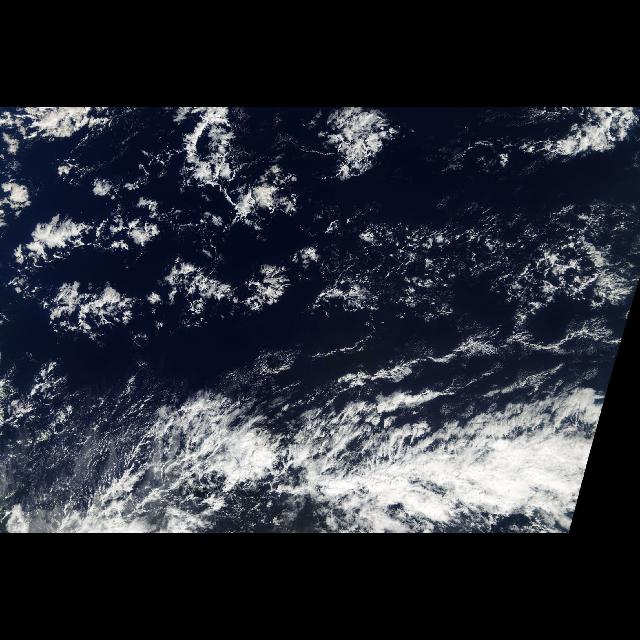Fish: (9, 153, 310, 345), (27, 371, 337, 527), (518, 218, 622, 366)
Flower: (1, 111, 446, 346)
Gravel: (323, 205, 584, 331)
